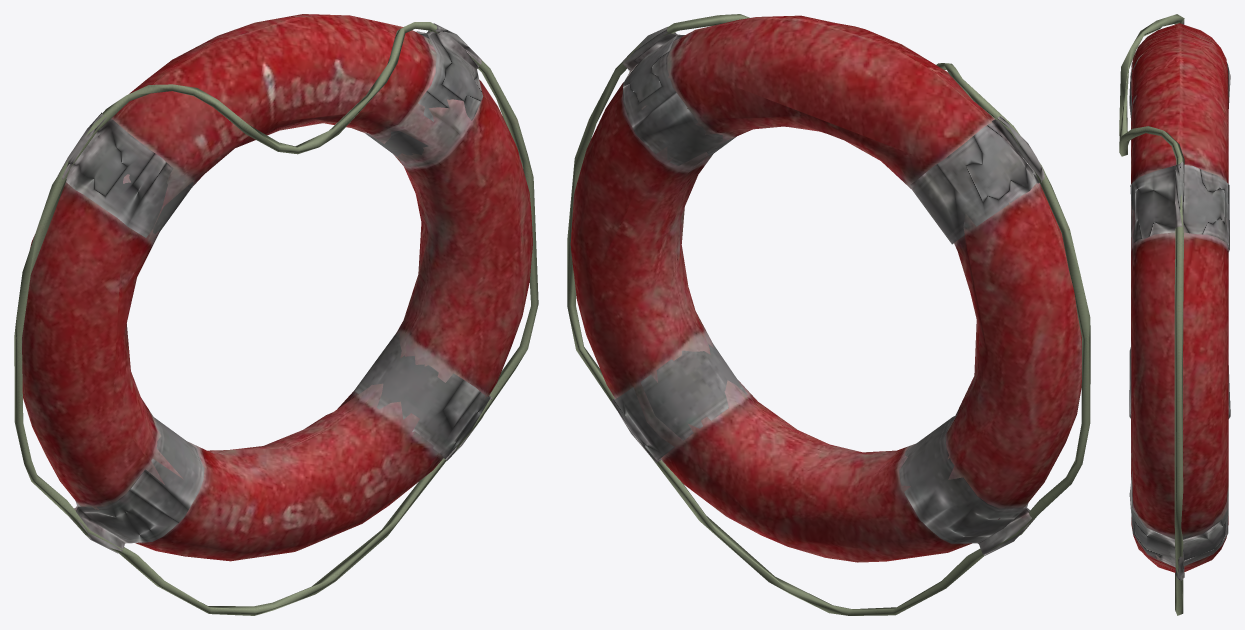
File: scene-lifebuoy.glb
3 renders of one model, left to right at view 1: azimuth 30°, elevation 25°; view 2: azimuth 150°, elevation 25°; view 3: azimuth 270°, elevation 25°, orthographic. The views are drawn at different scales.
Parts seen in each view (by area): view 1: lifebuoy; view 2: lifebuoy; view 3: lifebuoy.
Part boxes in pixels (bbox=[...]): lifebuoy: bbox=[14, 14, 538, 615]; lifebuoy: bbox=[567, 14, 1090, 615]; lifebuoy: bbox=[1119, 14, 1230, 615].
Size of the model in its own units: 0.7809 by 0.8396 by 0.1534.
1 material, 1 textured.
